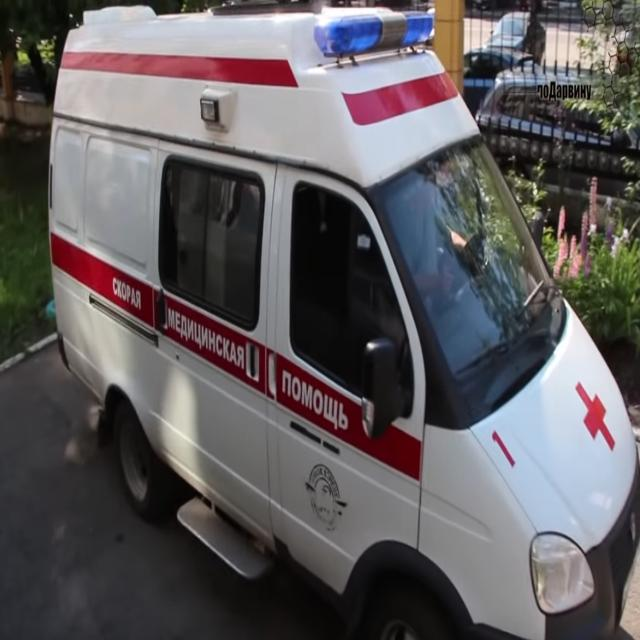ambulance: (47, 2, 640, 640)
non emergency car: (485, 9, 548, 66)
